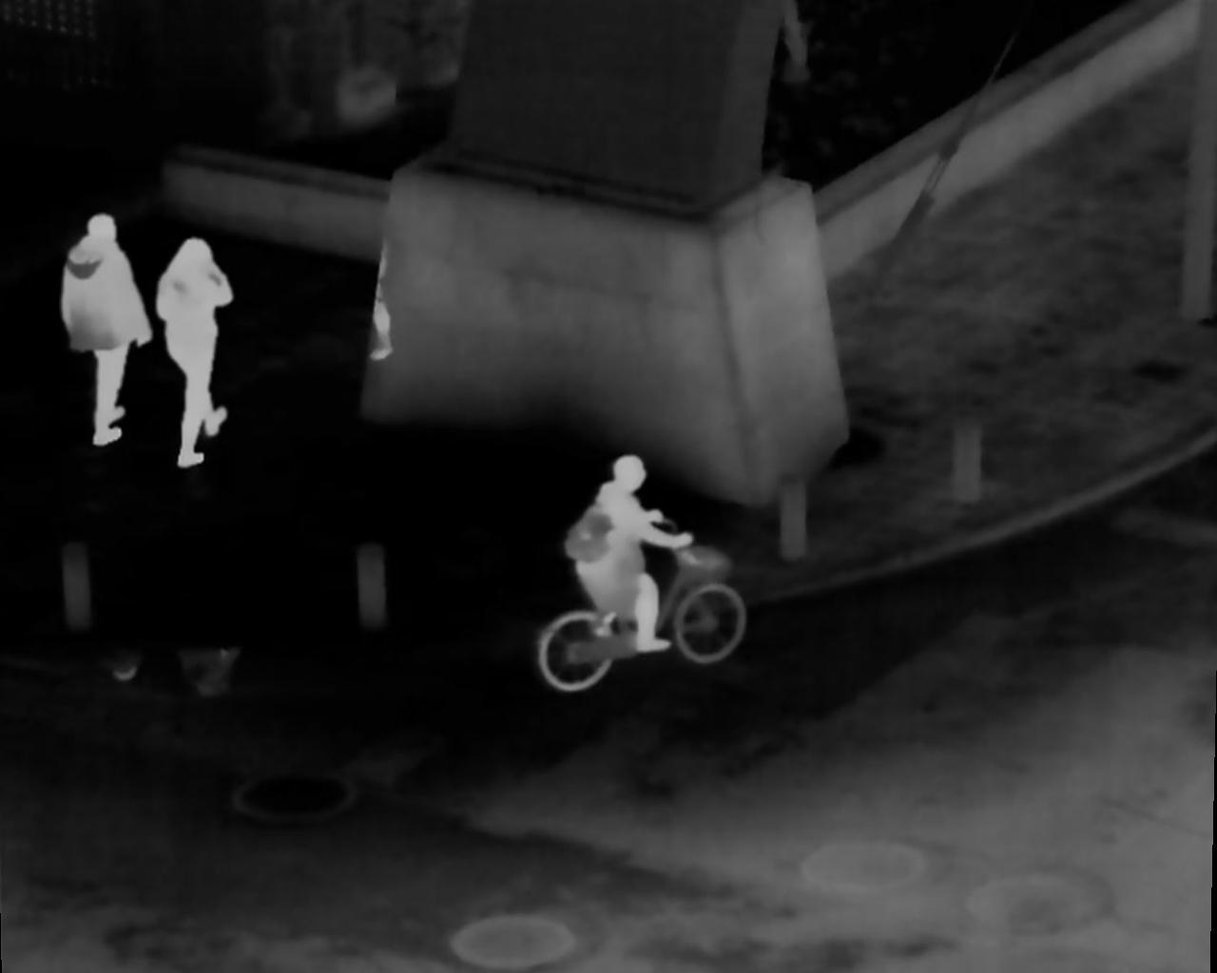person: (60, 211, 153, 441), (580, 460, 677, 648), (164, 235, 228, 461)
